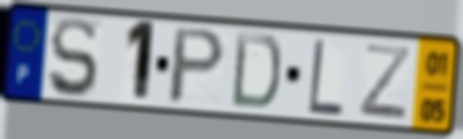1: (122, 18, 157, 108)
D: (229, 29, 284, 113)
L: (305, 36, 345, 120)
P: (164, 25, 229, 107)
S: (46, 15, 100, 101)
Z: (356, 41, 413, 123)
